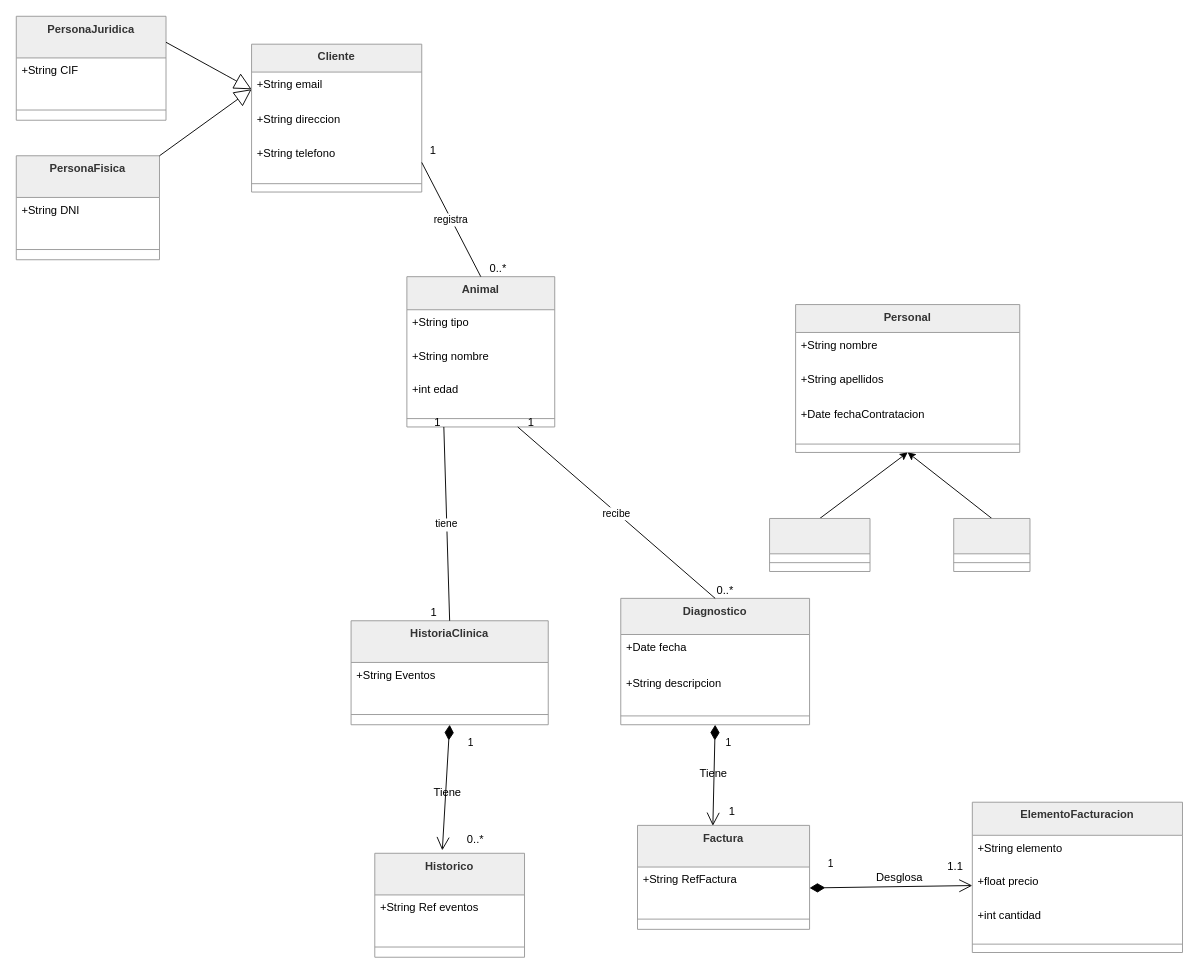
The diagram is 1199 pixels wide and 974 high, and some of its shapes have lost their labels. The shapes that lost their labels are listed below. From the top down, each one's centre as x and y in pixels, then its label:
the point at 819,544: Veterinario
the point at 991,544: Auxiliar
